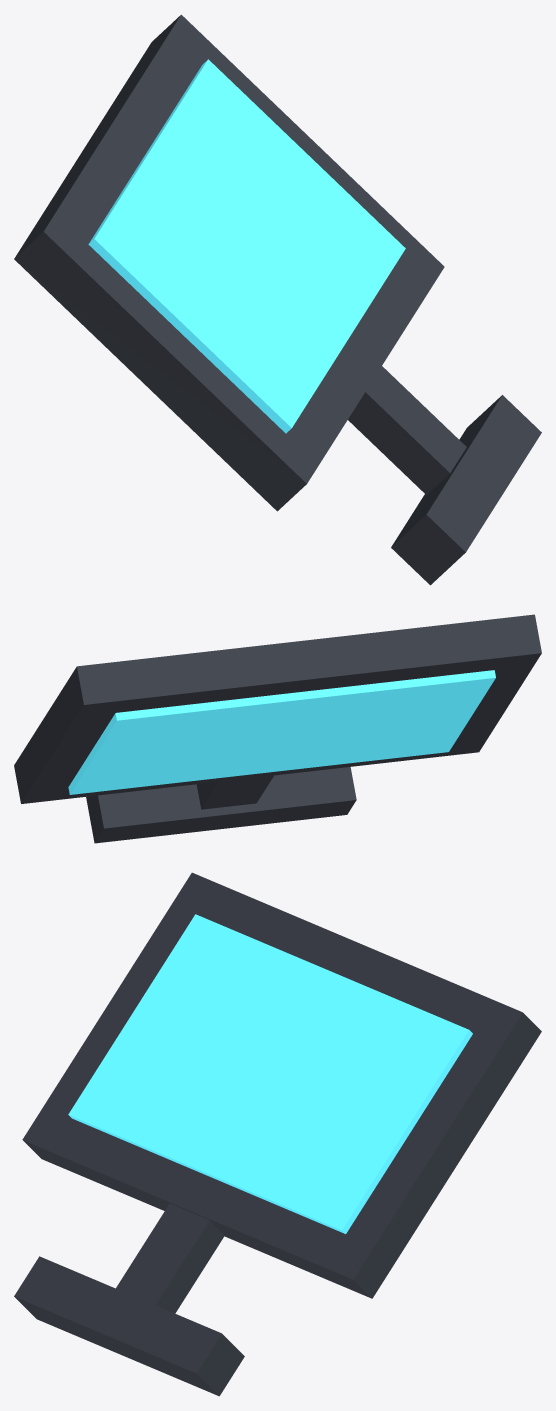
File: computers.glb
The picture shows the model from 3 angles, top to bottom: view 1: azimuth 30°, elevation 25°; view 2: azimuth 150°, elevation 25°; view 3: azimuth 270°, elevation 25°; orthographic projection. The views are drawn at different scales.
Parts seen in each view (by area): view 1: computers; view 2: computers; view 3: computers.
Boxes of the visible parts, box(x1,y1,x2,y2) form: computers: box(14, 14, 541, 585); computers: box(14, 614, 541, 843); computers: box(14, 872, 541, 1396).
Size of the model in its own units: 1.31 by 0.8713 by 1.31.
